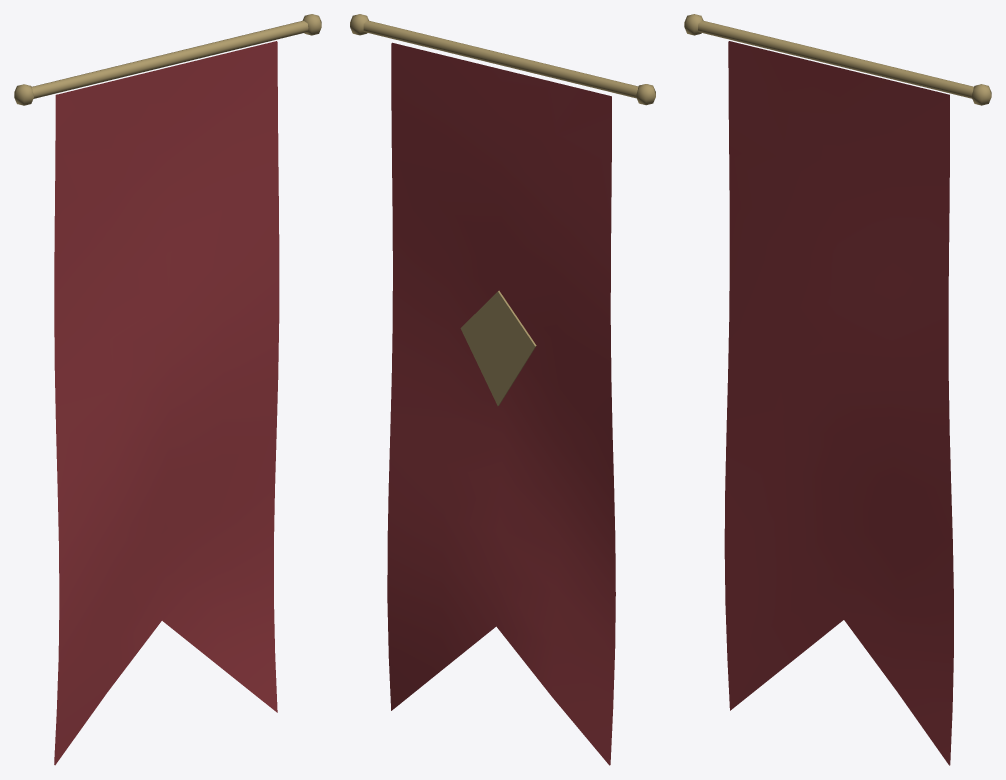
File: Banner.fbx
3 views of the same model, side by side, from view 1: azimuth 30°, elevation 25°; view 2: azimuth 150°, elevation 25°; view 3: azimuth 330°, elevation 25° (orthographic).
Parts seen in each view (by area): view 1: Banner; view 2: Banner; view 3: Banner.
Part boxes in pixels (x1=…): Banner: x1=14, y1=14, x2=321, y2=765; Banner: x1=350, y1=14, x2=655, y2=765; Banner: x1=684, y1=14, x2=991, y2=765.
Bounding box in the file's own units: 1.39 × 2.99 × 0.0915.
